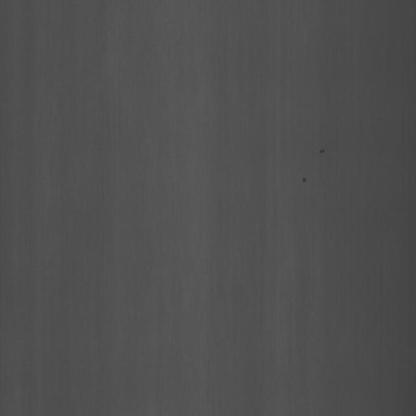inclusion: (296, 158, 314, 192), (320, 133, 331, 165)
